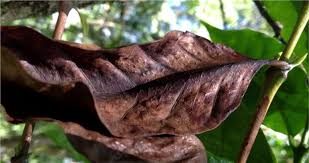mal de hilachas: (5, 17, 295, 156)
